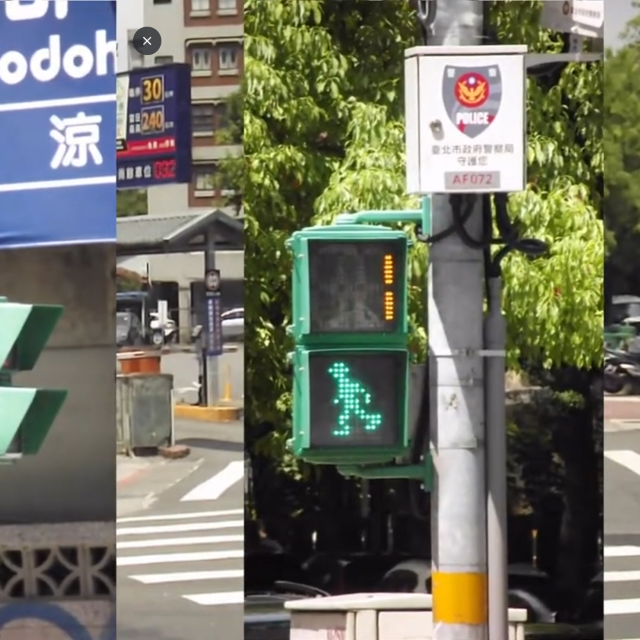green_light: (298, 232, 407, 458)
